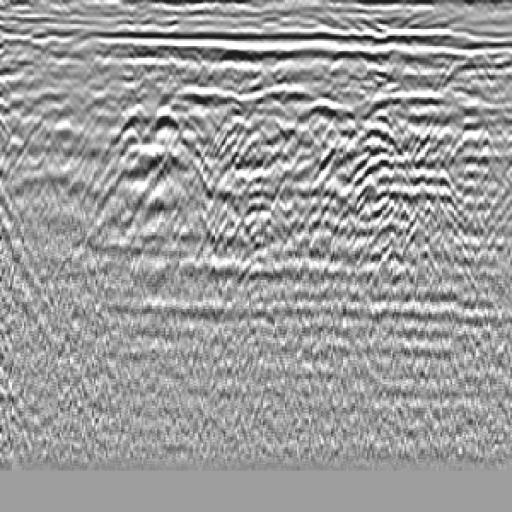metalic: (101, 107, 156, 170)
